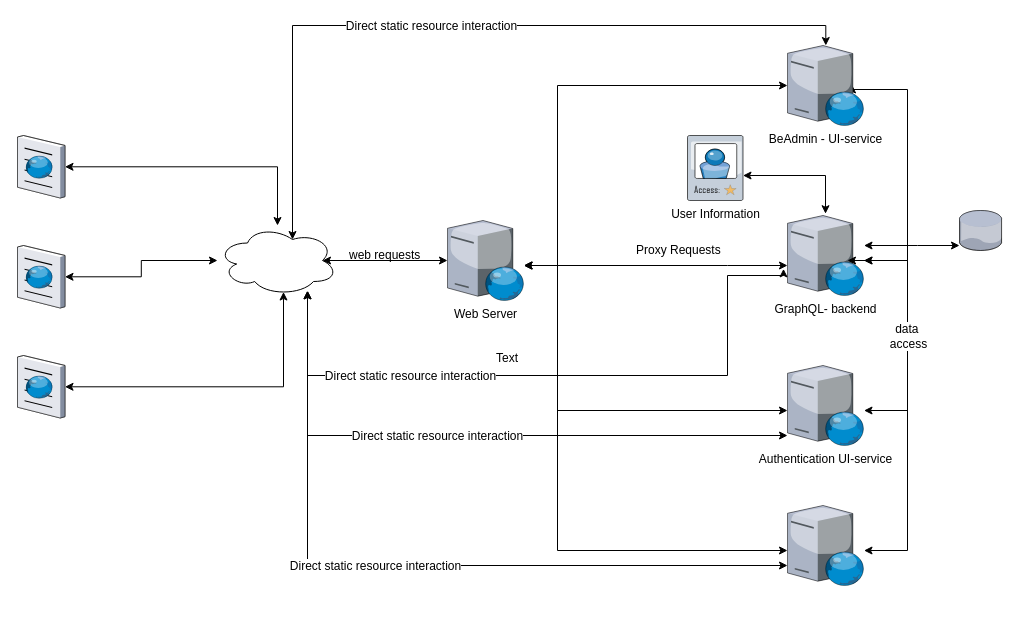
The diagram is 1023 pixels wide and 624 high, and some of its shapes have lost their labels. The centre of each missing label's shape, as x and y in pixels:
"Database" goes at [980,230].
"FileUpload S ervice" goes at [825,545].
"W eb" goes at [277,260].
